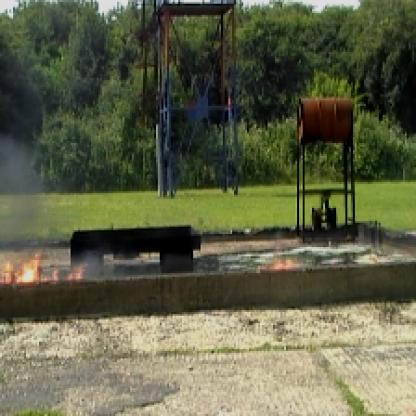Fire: (2, 247, 93, 290), (250, 247, 302, 273)
Smoke: (2, 122, 43, 250)
